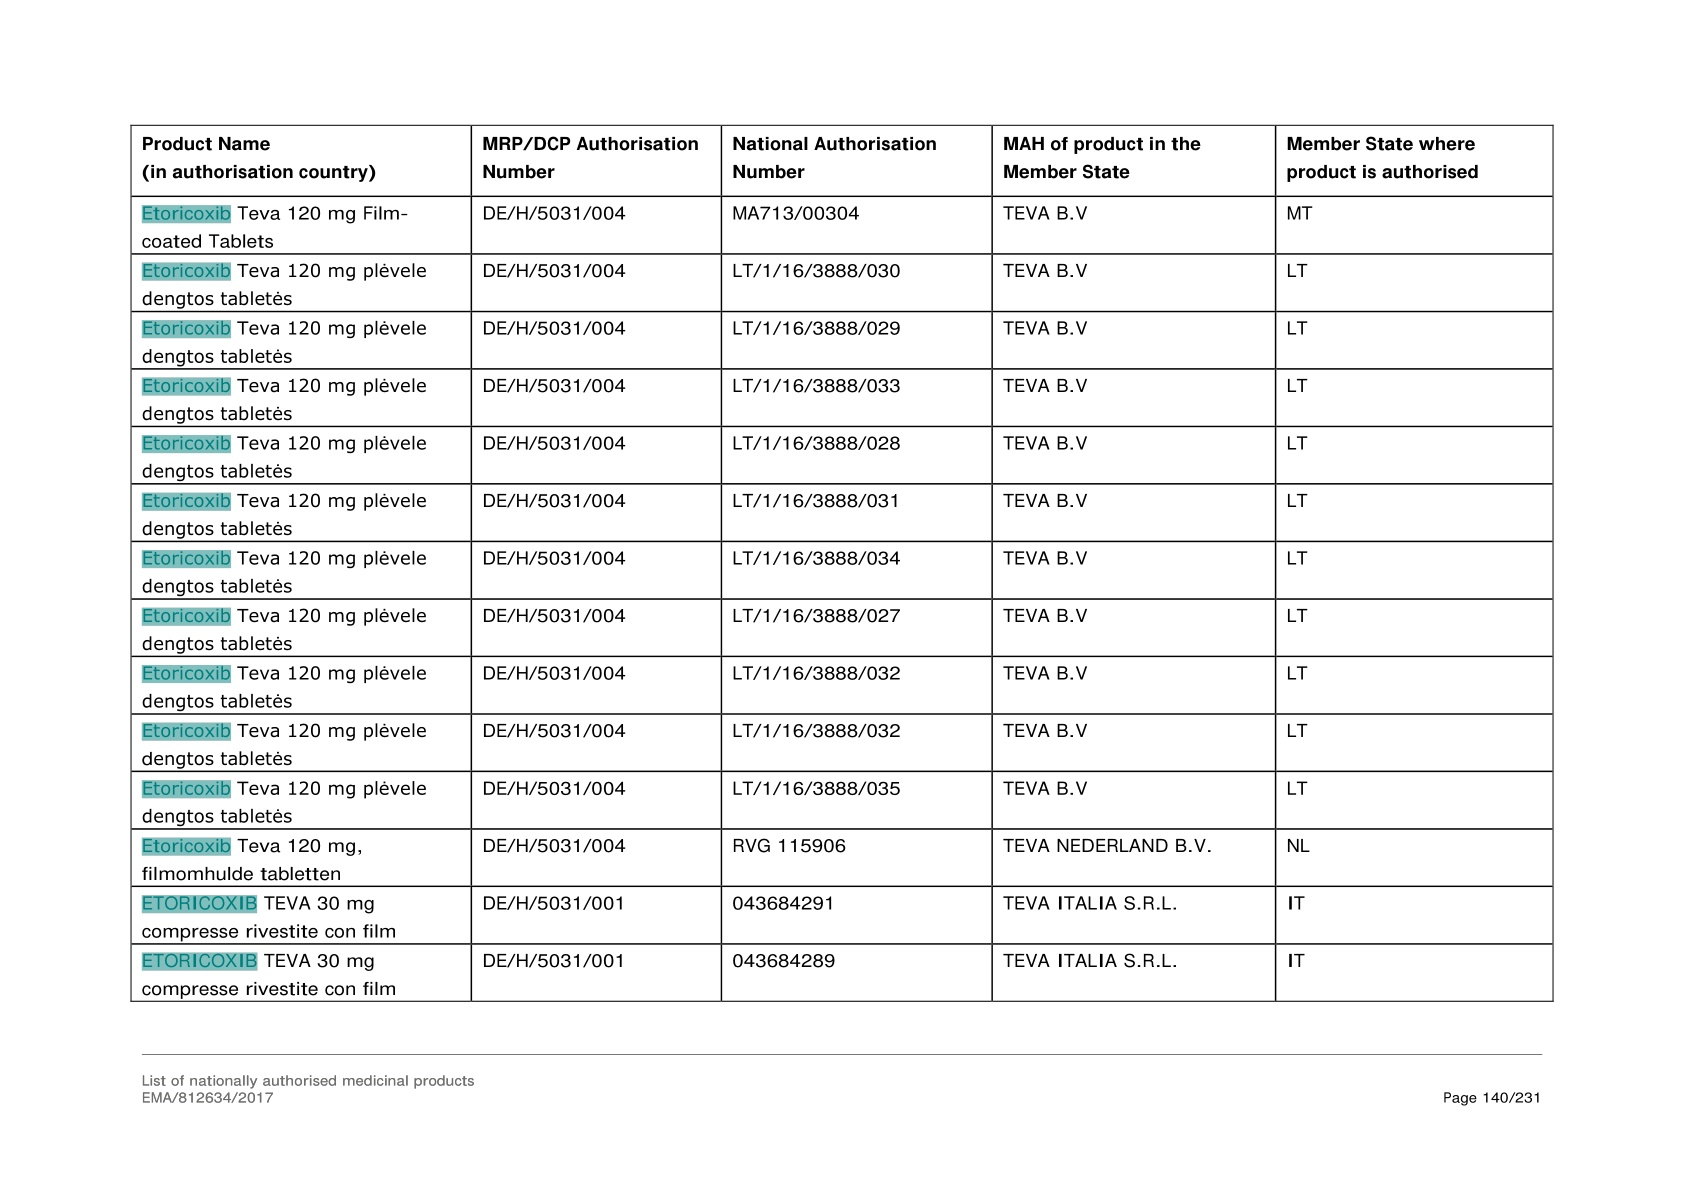full_lined: (128, 122, 1554, 1003)
